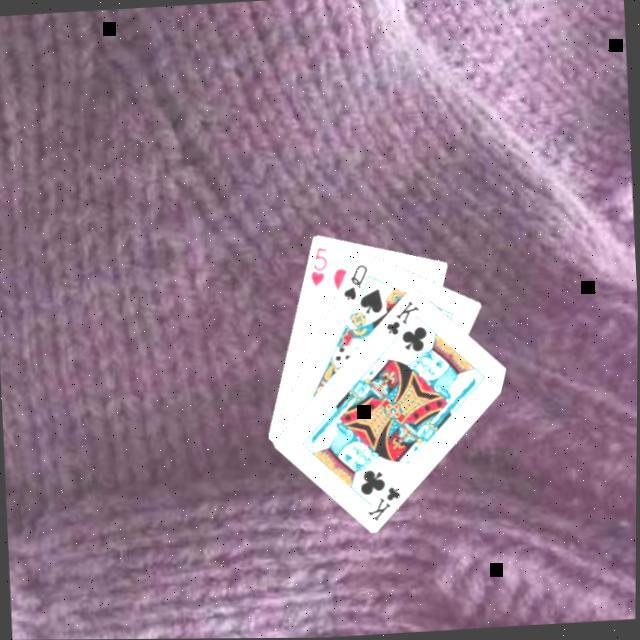5H: (306, 243, 334, 289)
KC: (383, 296, 425, 346), (364, 474, 406, 524)
QS: (339, 260, 374, 304)
